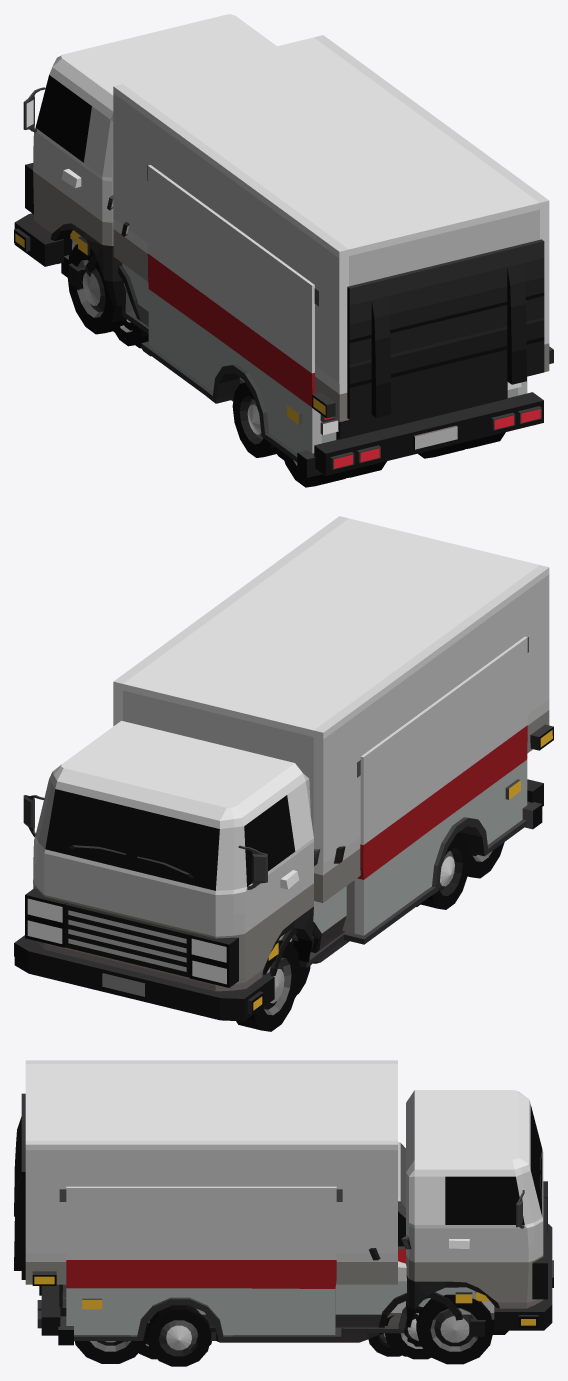
Rendered from SuperLowPolyCars.glb.
3 views of the same model, one above another, from view 1: azimuth 30°, elevation 25°; view 2: azimuth 150°, elevation 25°; view 3: azimuth 270°, elevation 25° (orthographic). The views are drawn at different scales.
Parts seen in each view (by area): view 1: Truck, Ambulance, Pickup, TruckRed; view 2: Truck, Ambulance, Pickup, TruckRed; view 3: Truck, Ambulance, Pickup, TruckBlue, Wagon, Coupe.
Boxes of the visible parts, <box> form: Truck: <box>14,14,553,487</box>; Ambulance: <box>61,165,527,477</box>; Pickup: <box>68,222,283,458</box>; TruckRed: <box>67,245,473,487</box>; Truck: <box>14,516,553,1031</box>; Ambulance: <box>292,636,542,967</box>; Pickup: <box>266,846,346,997</box>; TruckRed: <box>257,836,503,1031</box>; Truck: <box>14,1060,553,1351</box>; Ambulance: <box>58,1142,508,1366</box>; Pickup: <box>138,1248,486,1359</box>; TruckBlue: <box>74,1295,493,1364</box>; Wagon: <box>148,1298,430,1342</box>; Coupe: <box>121,1313,418,1356</box>.
Bounding box in the file's own units: 2.25 × 2.41 × 5.25.
Materials: 1 (1 with a texture image).
